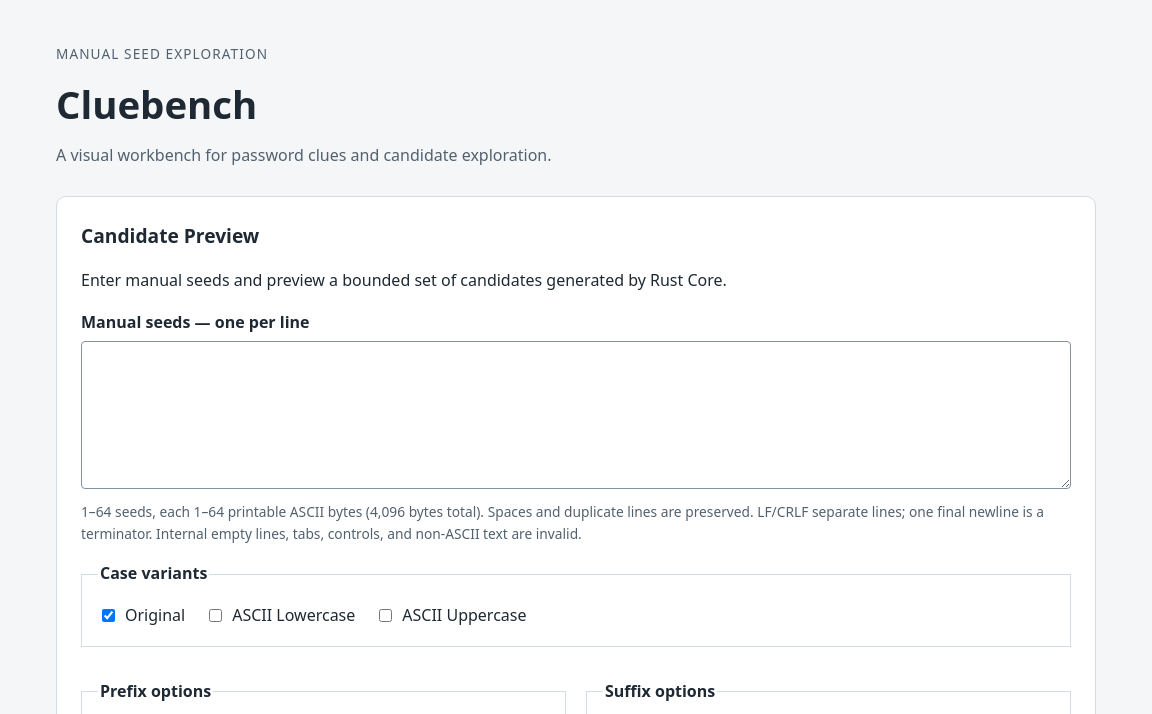
Test case: Candidate Preview desktop workflow (mock IPC) › rejects numeric allowances without clamping and permits independent limits
Type "Synthetic1!" into the text box labelled "Manual seeds — one per line".
click(576, 415); type("Synthetic1!")  # box x1=81 y1=341 x2=1071 y2=489
(page scrolled)
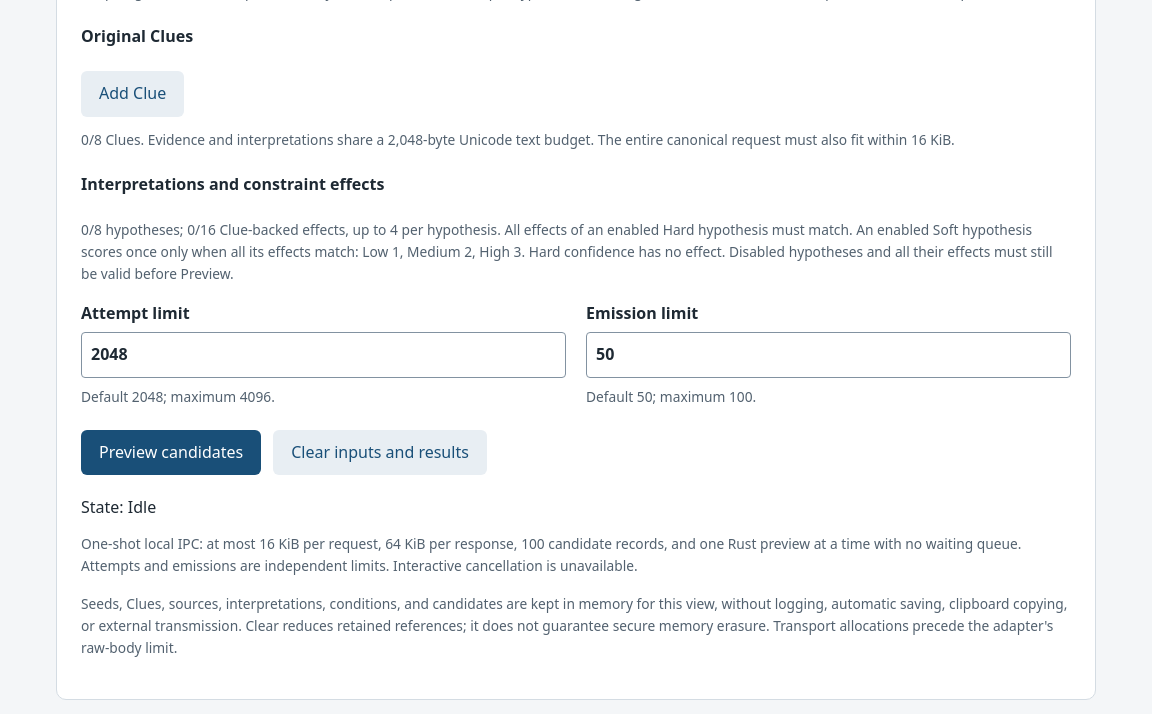
Replace the text in the field labelled "Attempt limit" with "4097" at (324, 355), box x1=81 y1=332 x2=566 y2=378
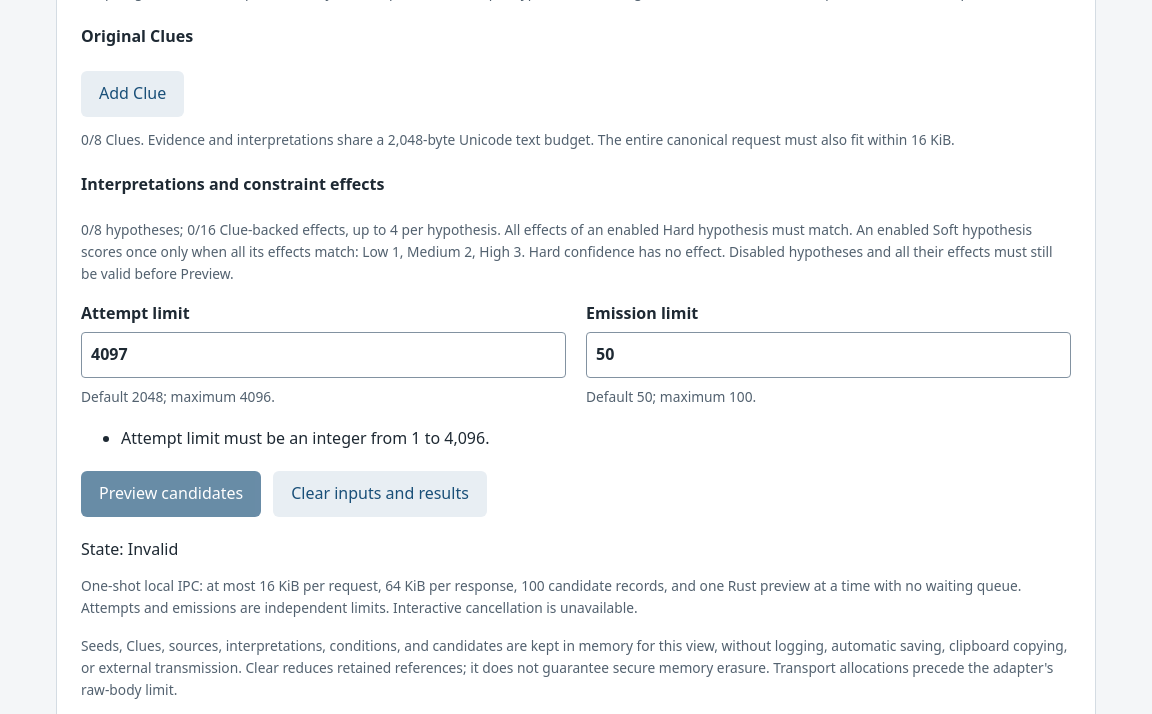
Check: the button "Preview candidates" is disabled, box x1=81 y1=471 x2=261 y2=517
Check: the message "Attempt limit must be an integer from 1 to 4,096." is shown, box x1=121 y1=426 x2=490 y2=448
Replace the text in the field labelled "Attempt limit" with "1" at (324, 355), box x1=81 y1=332 x2=566 y2=378
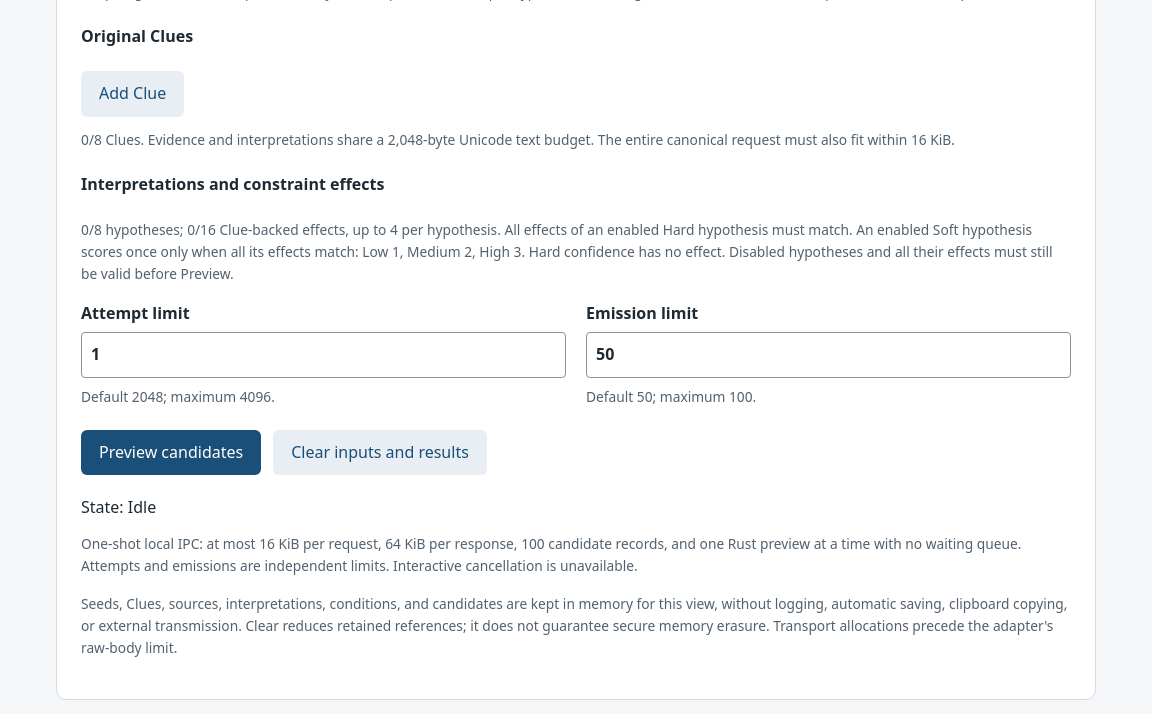
Replace the text in the field labelled "Emission limit" with "100" at (828, 355), box x1=586 y1=332 x2=1071 y2=378
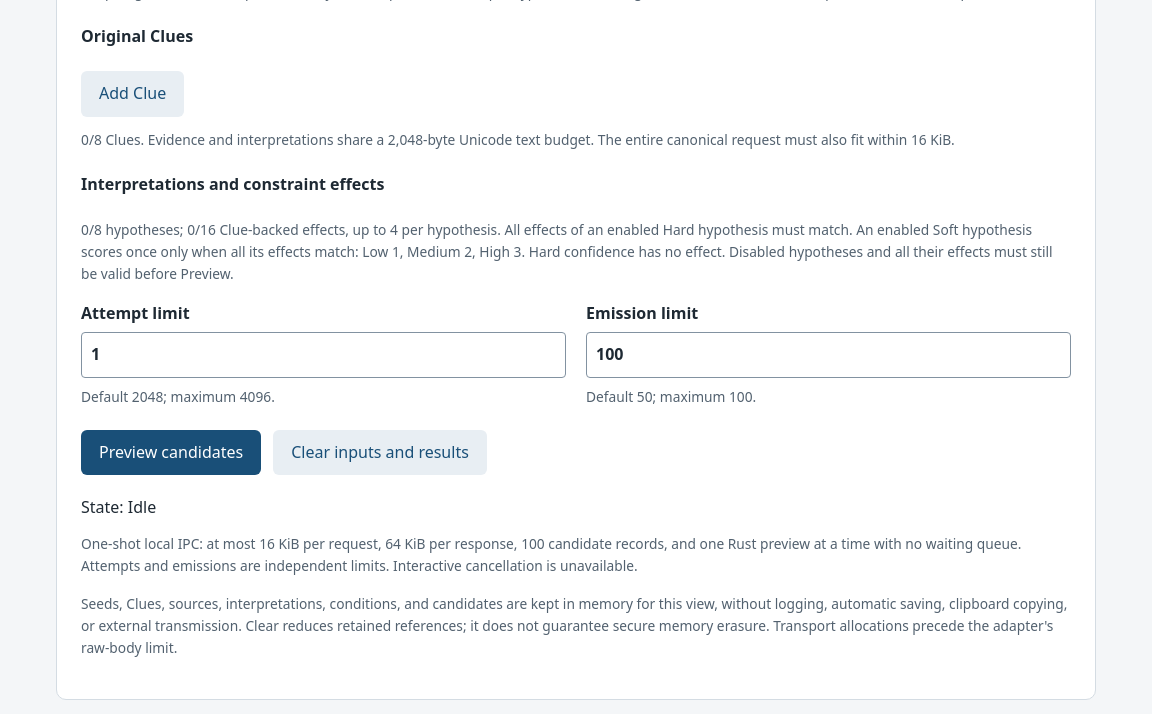
Click the button "Preview candidates".
click(171, 452)  # box x1=81 y1=430 x2=261 y2=475
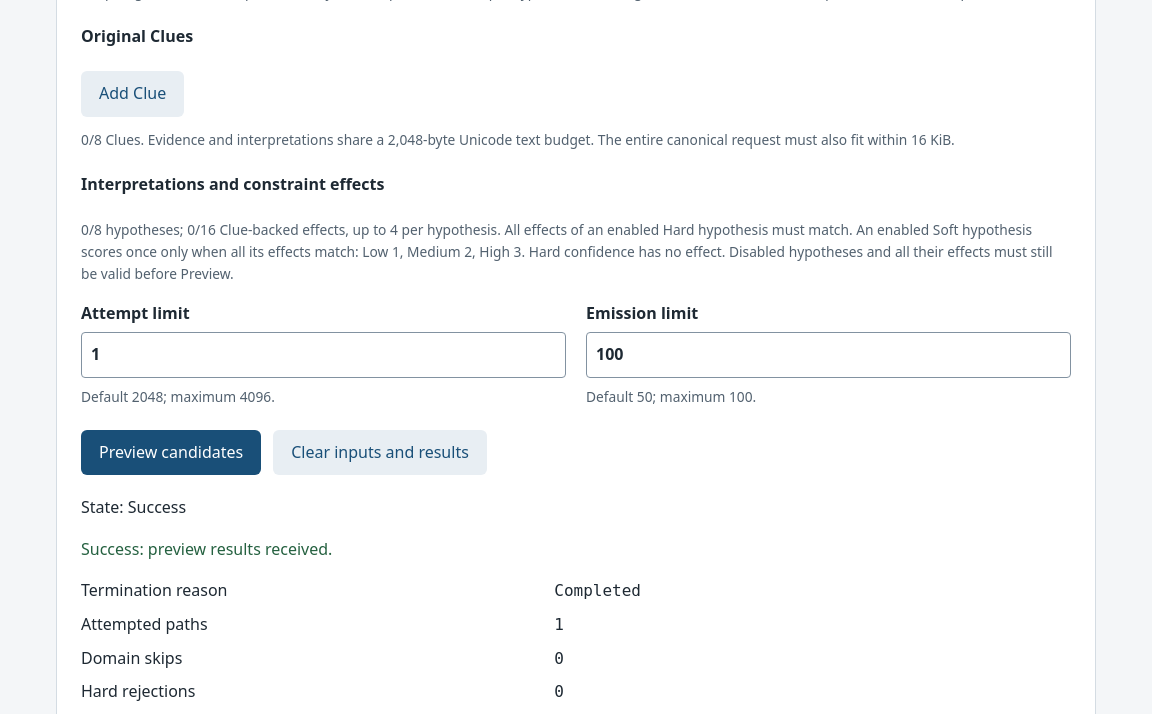
Check: the text "Success: preview results received." is shown, box x1=81 y1=538 x2=332 y2=560
